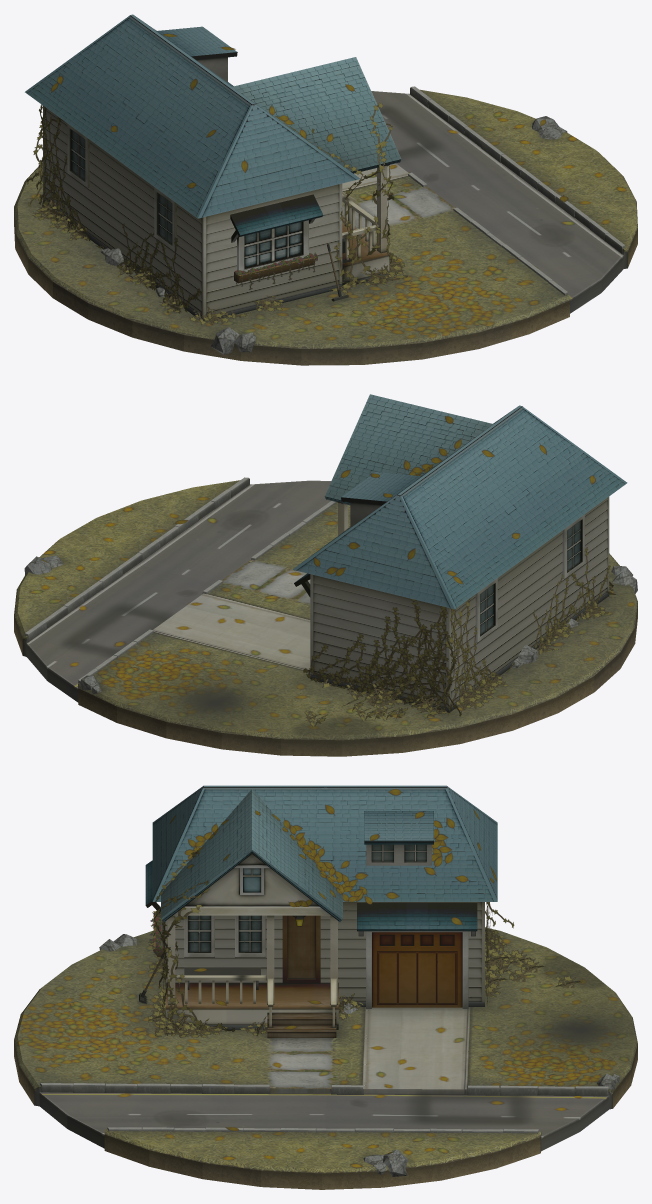
3 renders of one model, top to bottom at view 1: azimuth 30°, elevation 25°; view 2: azimuth 150°, elevation 25°; view 3: azimuth 270°, elevation 25°, orthographic.
Parts seen in each view (by area): view 1: polySurface637, House_base, polySurface197, House_window_01, polySurface226, House_smallroof_02, House_veranda, House_windows_06, House_windows_05, House_beam_01, polySurface228, polySurface281; view 2: polySurface637, House_base, polySurface197, House_smallroof_02, House_windows_05, House_windows_06, polySurface471, polySurface476, polySurface493, polySurface478, polySurface494, polySurface492 (+2 smaller); view 3: polySurface637, House_base, polySurface197, Garage_door, House_veranda, polySurface179, House_roof_part_02, House_door, House_smallroof_02, House_stairs, House_roof_windows_02, House_beam_02 (+7 smaller).
Boxes of the visible parts, x1,y1,x2,y2 form: polySurface637: (14,88,637,365); House_base: (25,14,359,321); polySurface197: (232,57,401,173); House_window_01: (237,220,308,271); polySurface226: (230,194,323,242); House_smallroof_02: (156,26,237,60); House_veranda: (342,218,389,287); House_windows_06: (67,123,89,188); House_windows_05: (154,187,176,251); House_beam_01: (377,165,387,253); polySurface228: (234,253,316,283); polySurface281: (210,327,239,354); polySurface637: (14,478,637,756); House_base: (292,405,627,712); polySurface197: (324,394,493,505); House_smallroof_02: (341,472,421,505); House_windows_05: (562,514,584,578); House_windows_06: (475,578,497,642); polySurface471: (374,599,451,711); polySurface476: (334,607,427,699); polySurface493: (311,616,417,692); polySurface478: (384,606,461,716); polySurface494: (303,633,381,685); polySurface492: (394,623,452,711); polySurface637: (14,927,637,1189); House_base: (152,785,497,1006); polySurface197: (161,789,342,921); Garage_door: (366,931,468,1008); House_veranda: (166,982,338,1029); polySurface179: (357,903,477,936); House_roof_part_02: (185,854,318,906); House_door: (282,915,320,983); House_smallroof_02: (364,811,433,844); House_stairs: (267,1012,336,1037); House_roof_windows_02: (366,844,431,865); House_beam_02: (173,906,330,915).
Bounding box in the file's own units: 50.27 × 18.67 × 50.27.
5 materials, 4 textured.
